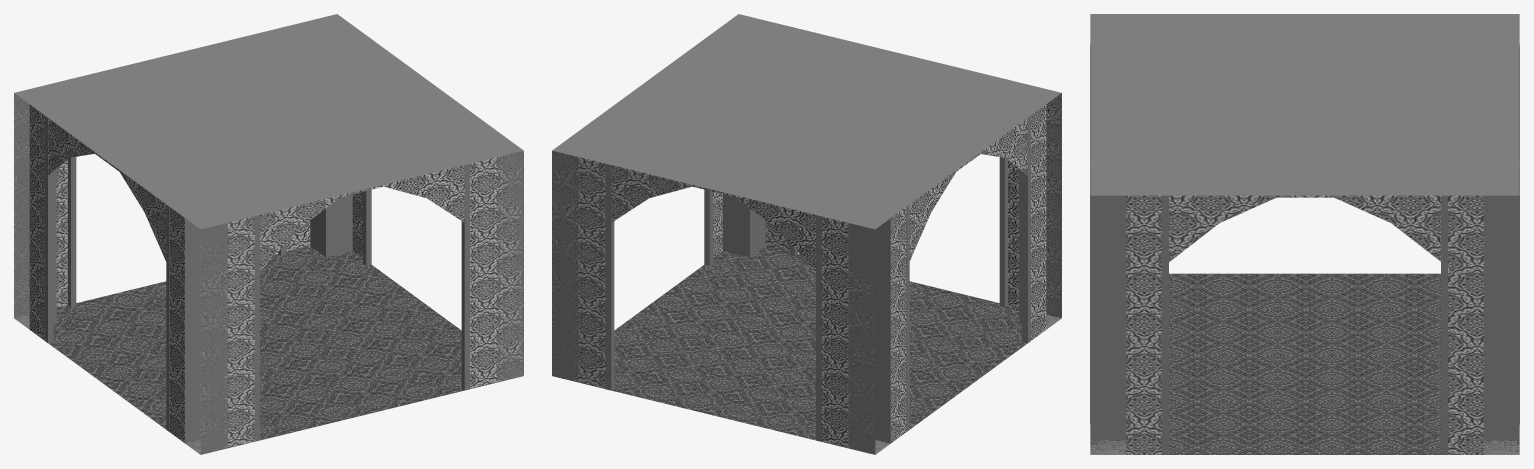
File: Hallway_Connector_C.fbx
3 views of the same model, side by side, from view 1: azimuth 30°, elevation 25°; view 2: azimuth 150°, elevation 25°; view 3: azimuth 270°, elevation 25° (orthographic). The views are drawn at different scales.
Visible parts, largest first — view 1: Hallway_Connector_C; view 2: Hallway_Connector_C; view 3: Hallway_Connector_C.
Boxes of the visible parts, bbox=[...] form: Hallway_Connector_C: bbox=[14, 14, 523, 454]; Hallway_Connector_C: bbox=[552, 14, 1061, 454]; Hallway_Connector_C: bbox=[1090, 14, 1519, 454].
Bounding box in the file's own units: 9 × 6 × 9.01.
3 materials, 2 textured.
